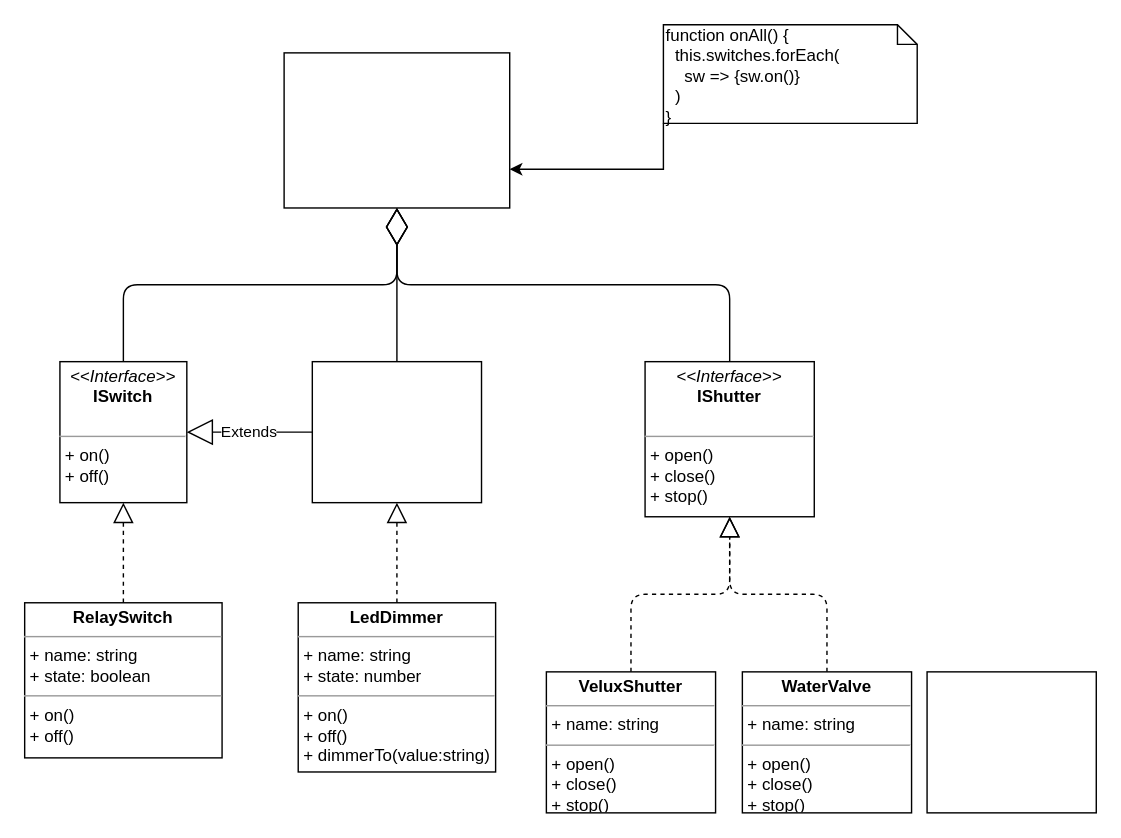
The diagram is 1121 pixels wide and 838 high, and some of its shapes have lost their labels. The box of each missing label's shape, as (x1, y1, x2, y2) in pixels:
<<Interface>> IDimmer + dimmerTo(): (311, 360, 482, 503)
Client + switches[]: ISwitch + dimmers[]: IDimmer + onAll(): Type + dimmAllTo(): (283, 51, 510, 208)
GasValve + name: string + open() + close() + stop(): (926, 670, 1096, 813)
